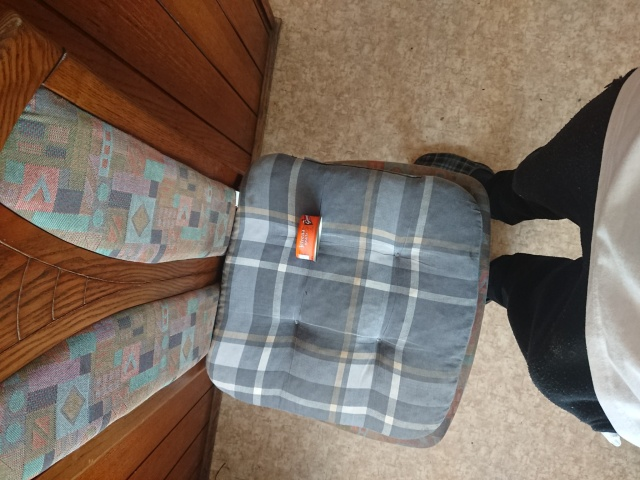Gavrilovic Pork Liver Pate 100g: (293, 211, 324, 264)
